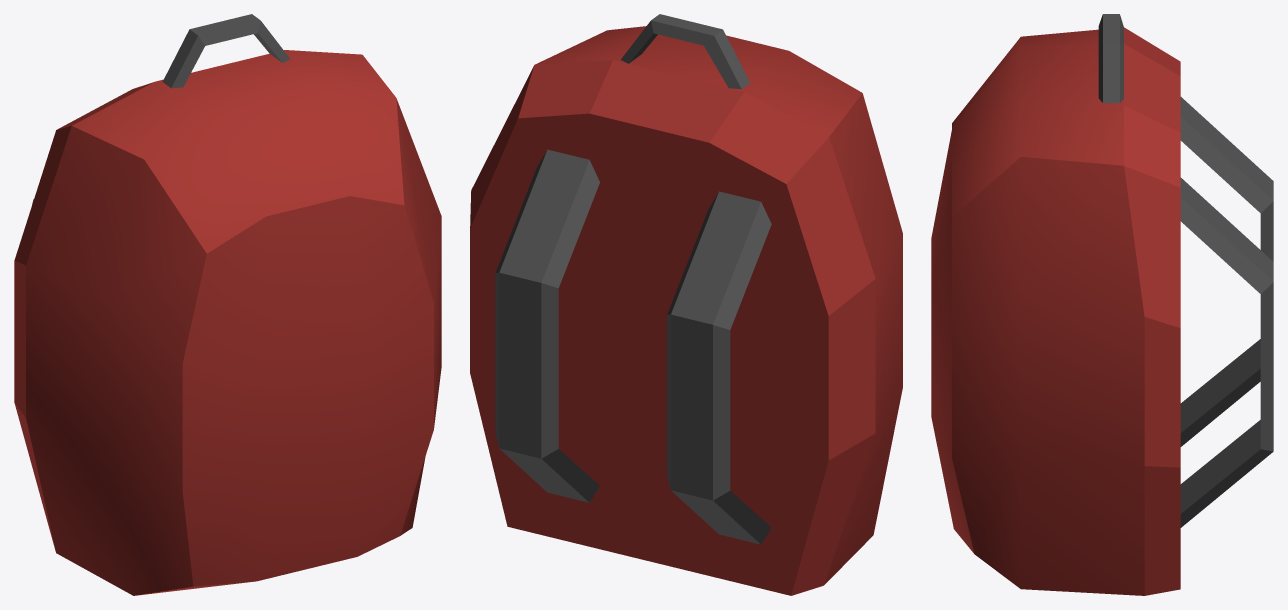
File: Bag.fbx
3 views of the same model, side by side, from view 1: azimuth 30°, elevation 25°; view 2: azimuth 150°, elevation 25°; view 3: azimuth 270°, elevation 25° (orthographic). The views are drawn at different scales.
Parts seen in each view (by area): view 1: pTorus7; view 2: pTorus7; view 3: pTorus7.
Boxes of the visible parts, bbox=[...] form: pTorus7: bbox=[14, 14, 441, 595]; pTorus7: bbox=[470, 14, 902, 595]; pTorus7: bbox=[931, 14, 1273, 595].
Size of the model in its own units: 0.5996 by 0.7429 by 0.4677.
